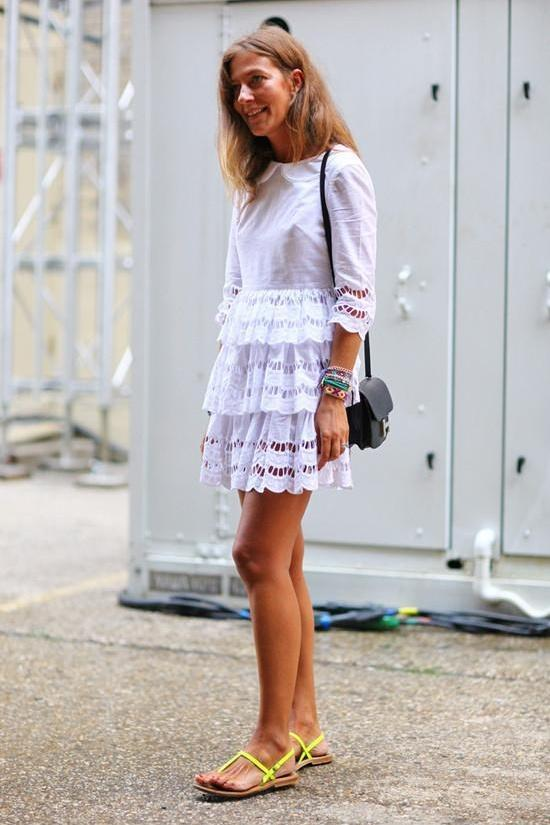dress: (199, 142, 375, 494)
